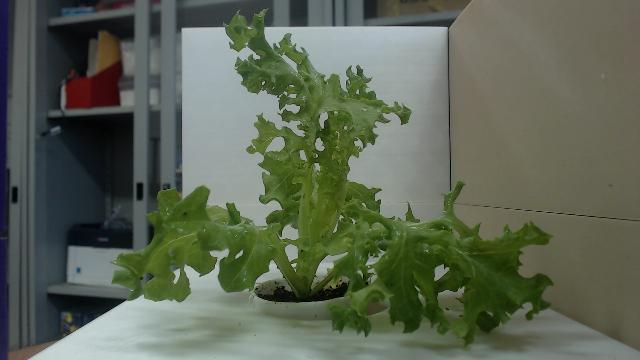Harvest Stage: (110, 7, 556, 347)
